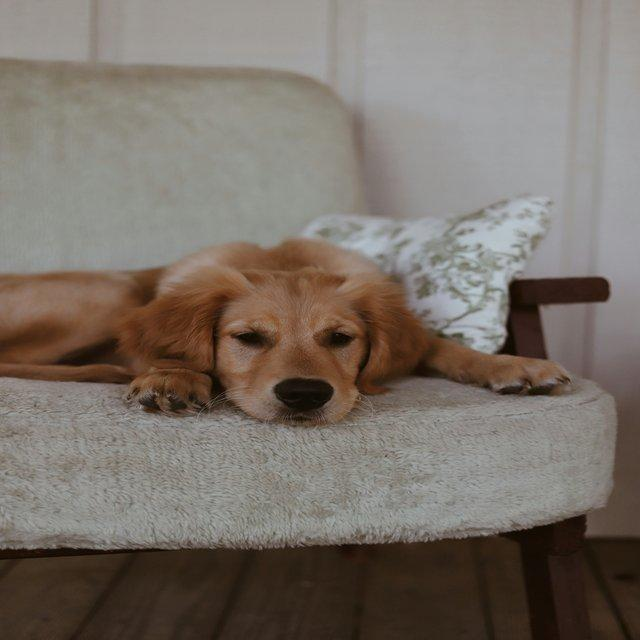retriever: (0, 236, 573, 428)
